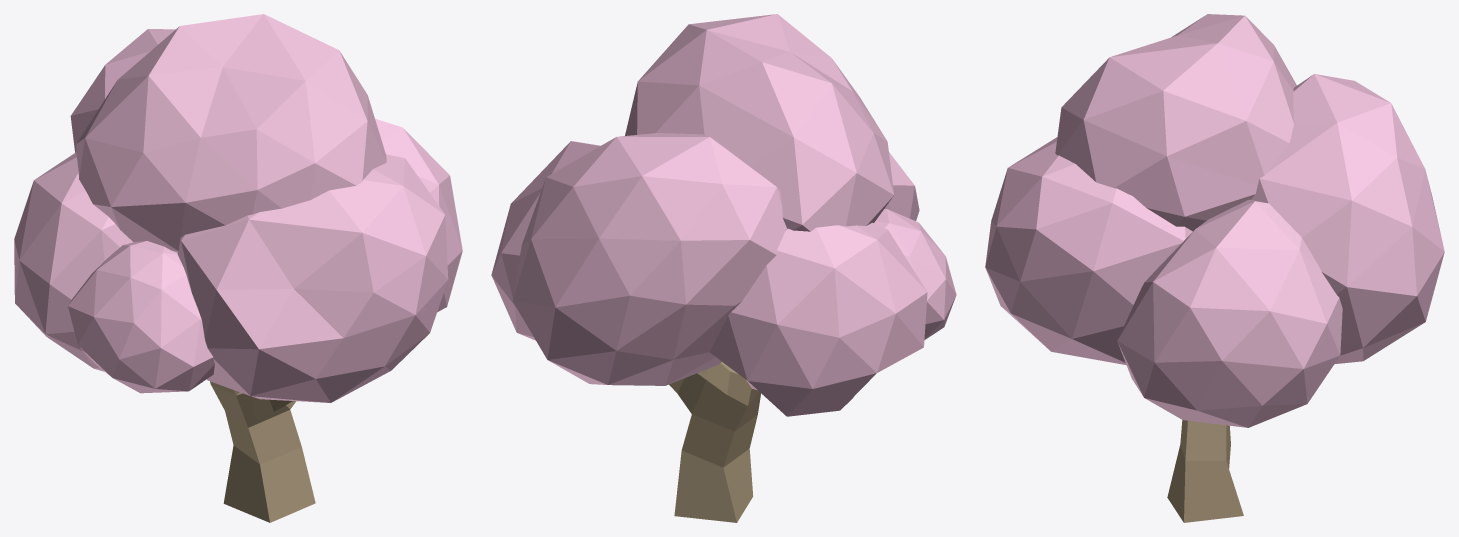
File: OakTree3Light3.fbx
The picture shows the model from 3 angles, left to right: view 1: azimuth 30°, elevation 25°; view 2: azimuth 150°, elevation 25°; view 3: azimuth 270°, elevation 25°; orthographic projection. The views are drawn at different scales.
Visible parts, largest first — view 1: OakTree3; view 2: OakTree3; view 3: OakTree3.
Boxes of the visible parts, bbox=[...] form: OakTree3: bbox=[14, 14, 462, 522]; OakTree3: bbox=[491, 14, 956, 522]; OakTree3: bbox=[985, 14, 1444, 522].
Size of the model in its own units: 1382 by 1584 by 1423.
